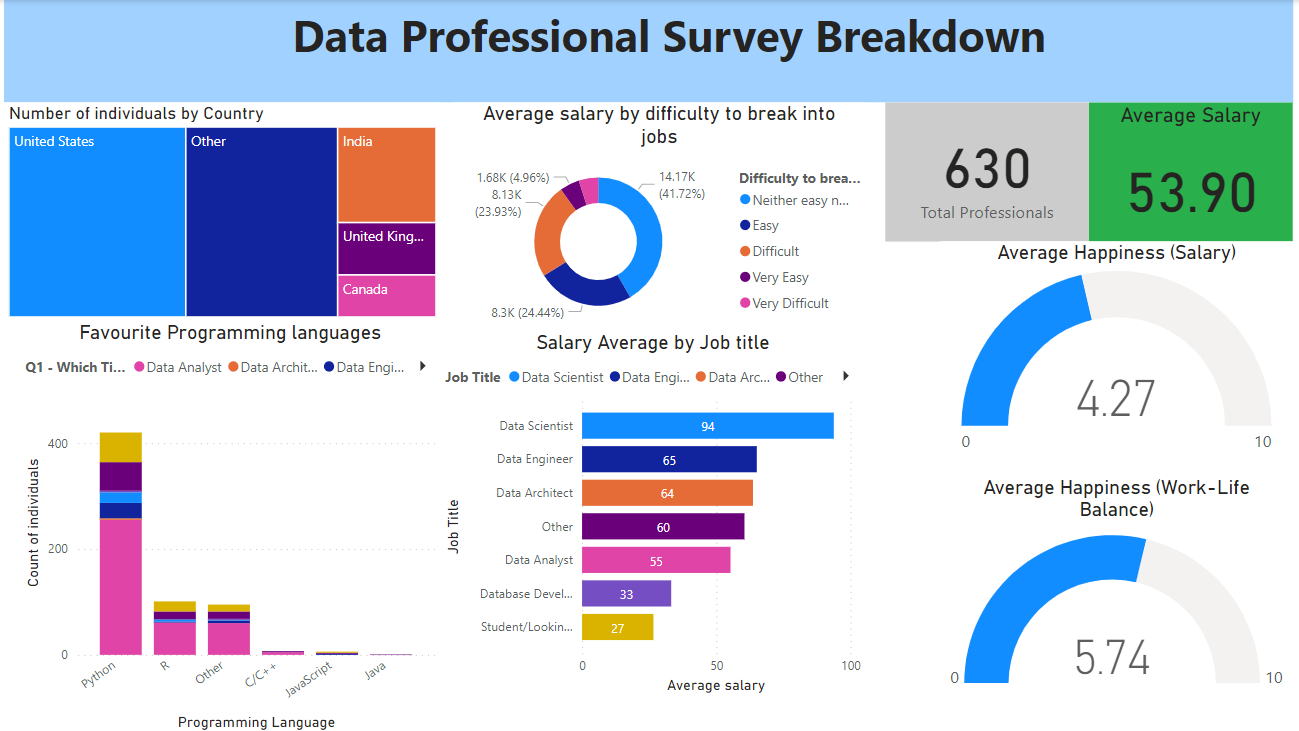

The dashboard page shown, as its layout file describes it:
{"tool":"powerbi","page":{"name":"Page 1","canvas":[1280,720],"ordinal":0},"visuals":[{"type":"textbox","box":[9.6,0,1260.8,100.3],"z":0},{"type":"card","fields":{"Values":["CountNonNull(Data Professional Survey.Unique ID)"]},"box":[872.1,100.3,199.1,136],"z":1000},{"type":"card","title":"Average Salary","fields":{"Values":["Avg(Data Professional Survey.Average salary)"]},"box":[1071.2,100.3,199.1,136],"z":2000},{"type":"barChart","title":"Salary Average by Job title","fields":{"Category":["Data Professional Survey.Q1 - Which Title Best Fits your Current Role?.1"],"Y":["Avg(Data Professional Survey.Average salary)"],"Series":["Data Professional Survey.Q1 - Which Title Best Fits your Current Role?.1"]},"box":[436.7,324.1,416.1,358.5],"z":2001},{"type":"columnChart","title":"Favourite Programming languages","fields":{"Category":["Data Professional Survey.Q5 - Favorite Programming Language.1"],"Y":["CountNonNull(Data Professional Survey.Unique ID)"],"Series":["Data Professional Survey.Q1 - Which Title Best Fits your Current Role?.1"]},"box":[26.1,314.5,410.6,405.2],"z":2002},{"type":"treemap","fields":{"Group":["Data Professional Survey.Q11 - Which Country do you live in?.1"],"Values":["CountNonNull(Data Professional Survey.Unique ID)"]},"box":[9.6,100.3,427.1,214.2],"z":2003},{"type":"gauge","title":"Average Happiness (Salary)","fields":{"Y":["Avg(Data Professional Survey.Q6 - How Happy are you in your Current Position with the following? (Salary))"],"MinValue":["Min(Data Professional Survey.Q6 - How Happy are you in your Current Position with the following? (Salary))"],"MaxValue":["Max(Data Professional Survey.Q6 - How Happy are you in your Current Position with the following? (Salary))"]},"box":[925.7,236.2,344.7,217],"z":2004},{"type":"gauge","title":"Average Happiness       (Work-Life Balance)","fields":{"Y":["Avg(Data Professional Survey.Q6 - How Happy are you in your Current Position with the following? (Work/Life Balance))"],"MinValue":["Min(Data Professional Survey.Q6 - How Happy are you in your Current Position with the following? (Work/Life Balance))1"],"MaxValue":["Max(Data Professional Survey.Q6 - How Happy are you in your Current Position with the following? (Work/Life Balance))2"]},"box":[925.7,465.6,344.7,217],"z":2005},{"type":"donutChart","title":"Average salary by difficulty to break into jobs","fields":{"Y":["Sum(Data Professional Survey.Average salary)"],"Category":["Data Professional Survey.Q7 - How difficult was it for you to break into Data?"]},"box":[449.1,100.3,403.8,223.9],"z":2006}]}

Visuals, with their boxes in screenshot pixels (x1, y1, x2, y2), scaled from the page's 1280x720 canvas onto the 1299x731 screenshot:
textbox: locate(10, 0, 1289, 102)
card - CountNonNull(Data Professional Survey.Unique ID): locate(885, 102, 1087, 240)
"Average Salary" card: locate(1087, 102, 1289, 240)
"Salary Average by Job title" barChart: locate(443, 329, 865, 693)
"Favourite Programming languages" columnChart: locate(26, 319, 443, 730)
treemap - Data Professional Survey.Q11 - Which Country do you live in?.1 x CountNonNull(Data Professional Survey.Unique ID): locate(10, 102, 443, 319)
"Average Happiness (Salary)" gauge: locate(939, 240, 1289, 460)
"Average Happiness       (Work-Life Balance)" gauge: locate(939, 473, 1289, 693)
"Average salary by difficulty to break into jobs" donutChart: locate(456, 102, 866, 329)
